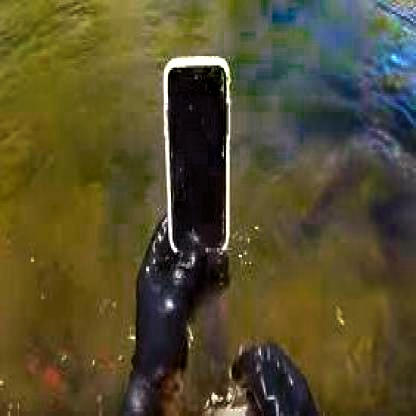cellphone: (162, 54, 235, 259)
